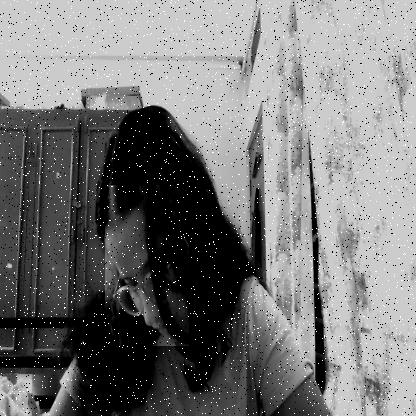Distracted: (105, 185, 188, 346)
